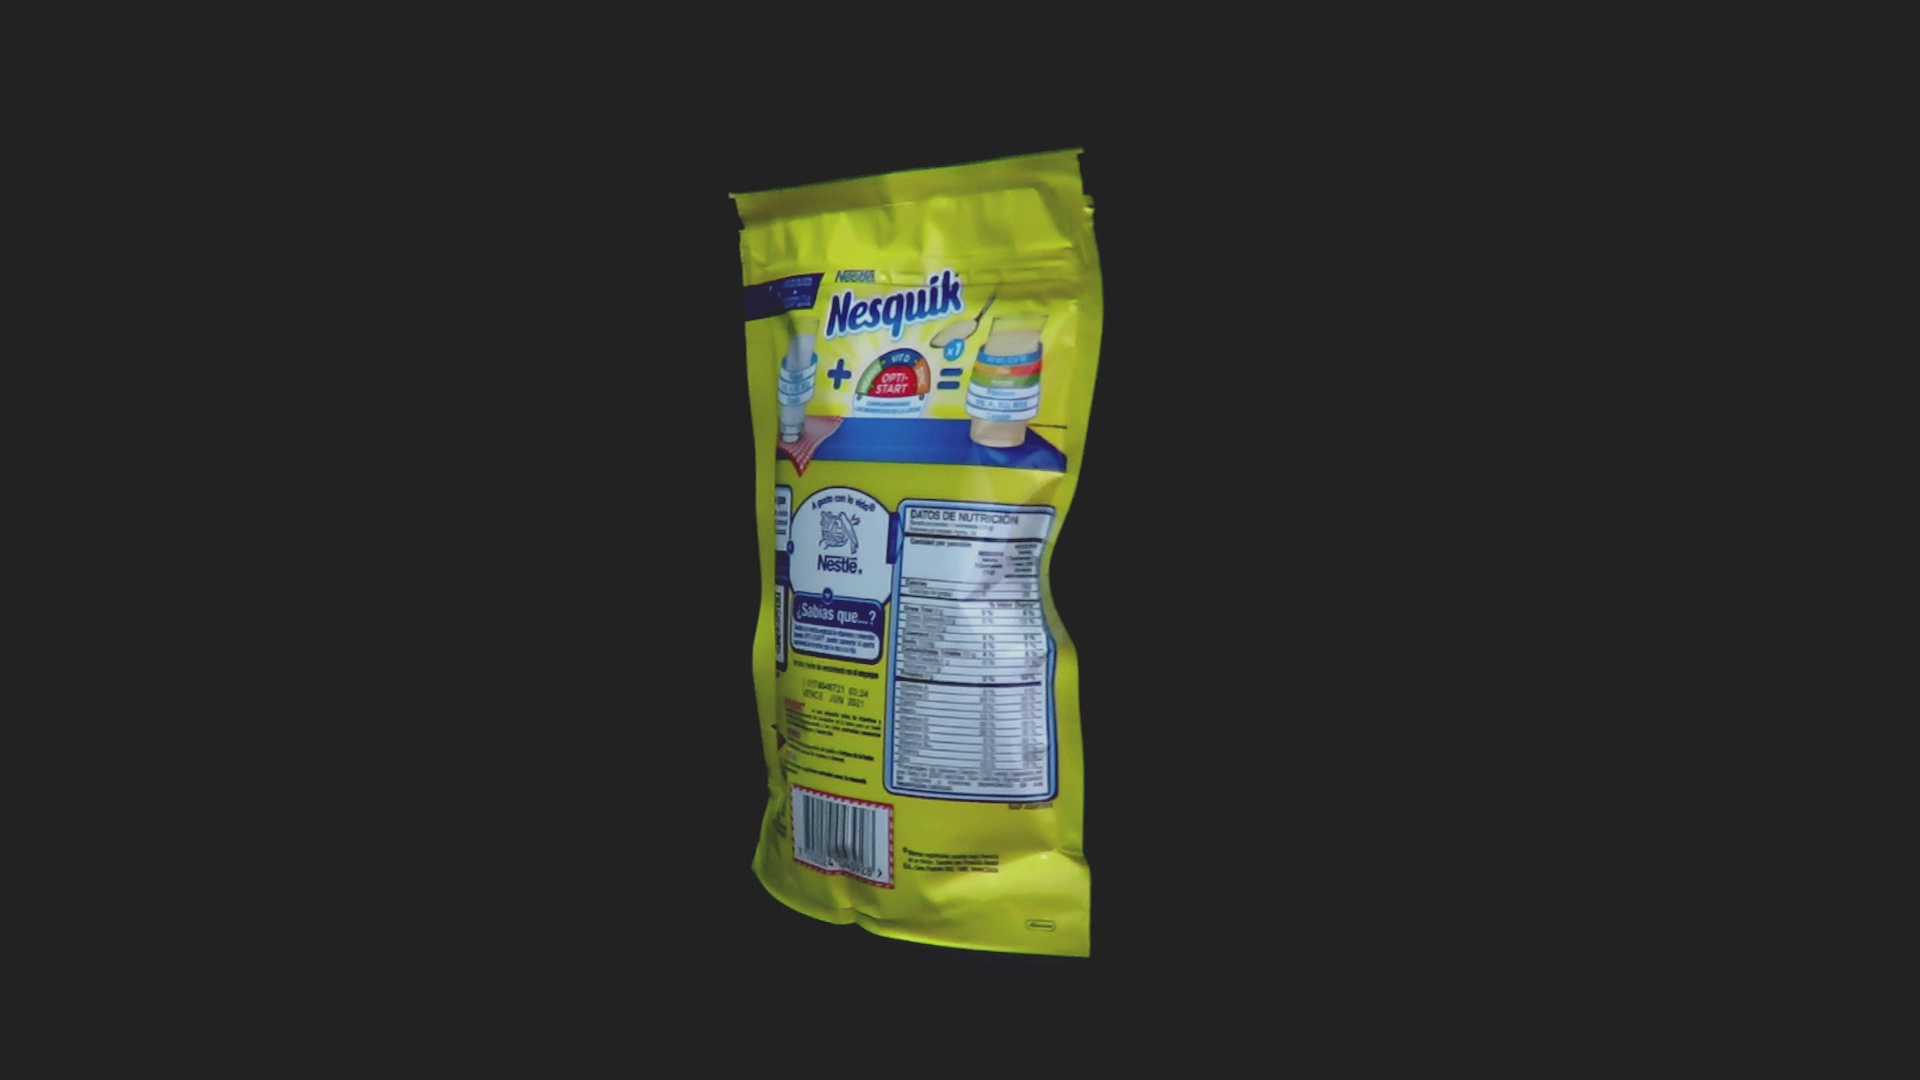COL0170306DYP20000: (723, 142, 1110, 964)
